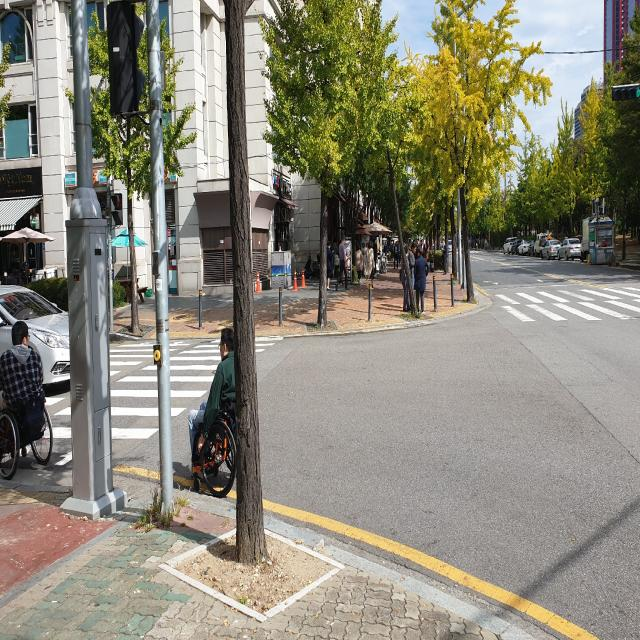빨간불: (109, 192, 124, 226)
횡단보도: (0, 310, 303, 456), (467, 280, 640, 325)
